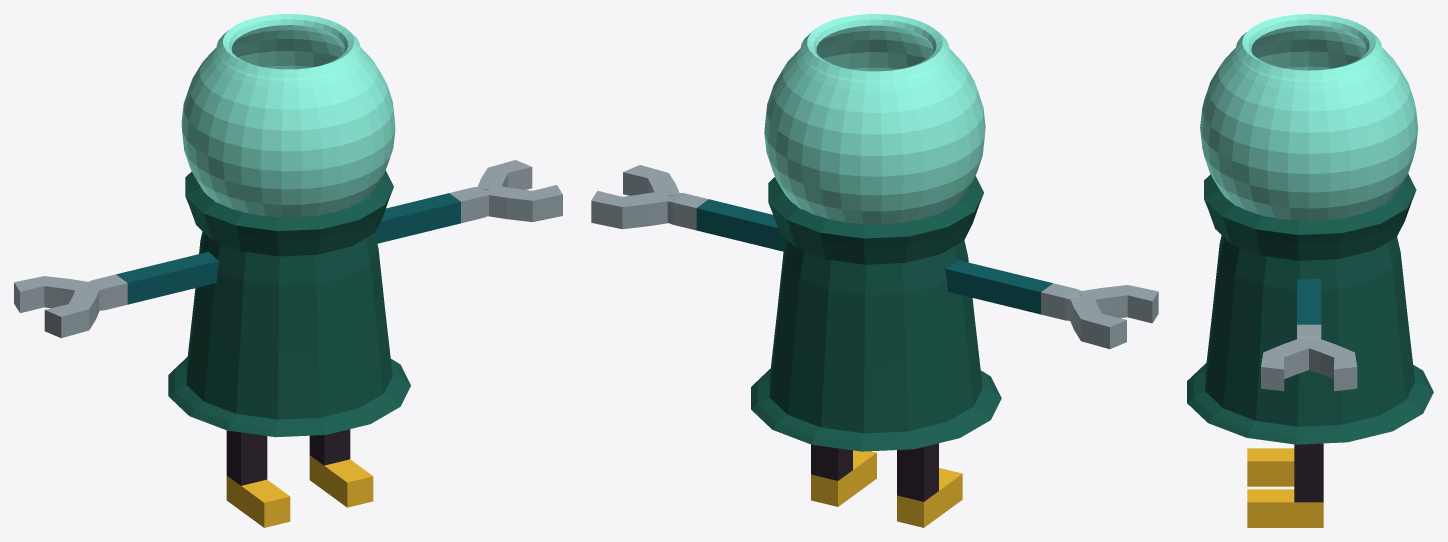
The model's file is Player_3.fbx.
The picture shows the model from 3 angles, left to right: view 1: azimuth 30°, elevation 25°; view 2: azimuth 150°, elevation 25°; view 3: azimuth 270°, elevation 25°; orthographic projection. The views are drawn at different scales.
Visible parts, largest first — view 1: Torso, Pecera_Cabeza, Brazos, Pierbas; view 2: Torso, Pecera_Cabeza, Brazos, Pierbas; view 3: Torso, Pecera_Cabeza, Pierbas, Brazos.
Boxes of the visible parts, box(x1,y1,x2,y2) form: Torso: box(168, 170, 410, 437); Pecera_Cabeza: box(181, 14, 395, 217); Brazos: box(14, 160, 562, 338); Pierbas: box(226, 429, 373, 527); Torso: box(751, 176, 1001, 451); Pecera_Cabeza: box(764, 14, 985, 224); Brazos: box(591, 165, 1158, 349); Pierbas: box(811, 443, 962, 527); Torso: box(1187, 174, 1433, 444); Pecera_Cabeza: box(1200, 14, 1418, 220); Pierbas: box(1247, 443, 1323, 527); Brazos: box(1261, 278, 1357, 391).
Size of the model in its own units: 655 by 551 by 269.
